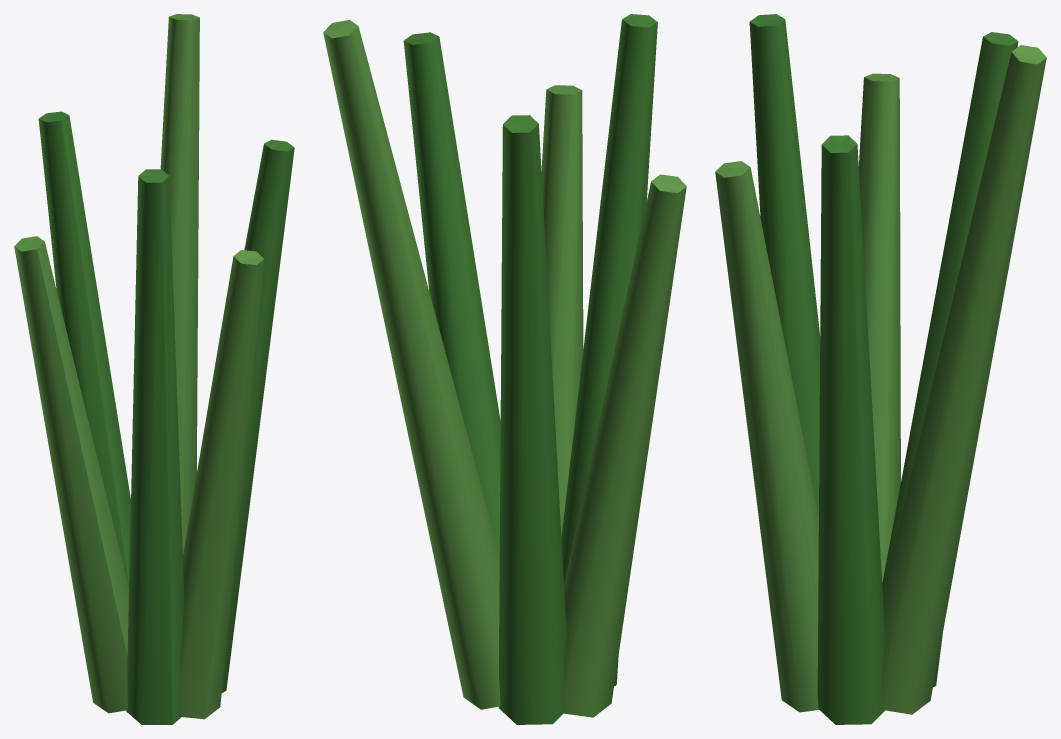
File: crop-scallion-young.glb
The picture shows the model from 3 angles, left to right: view 1: azimuth 30°, elevation 25°; view 2: azimuth 150°, elevation 25°; view 3: azimuth 270°, elevation 25°; orthographic projection. The views are drawn at different scales.
Visible parts, largest first — view 1: crop-scallion-young-kit; view 2: crop-scallion-young-kit; view 3: crop-scallion-young-kit.
Part boxes in pixels (left/top/right/bottom): crop-scallion-young-kit: left=14, top=14, right=294, bottom=724; crop-scallion-young-kit: left=323, top=14, right=686, bottom=724; crop-scallion-young-kit: left=715, top=14, right=1046, bottom=724.
Size of the model in its own units: 0.227 by 0.5159 by 0.2222.
